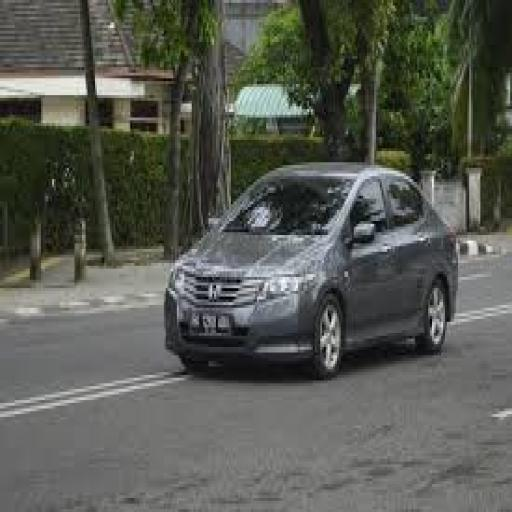License: (186, 307, 236, 334)
